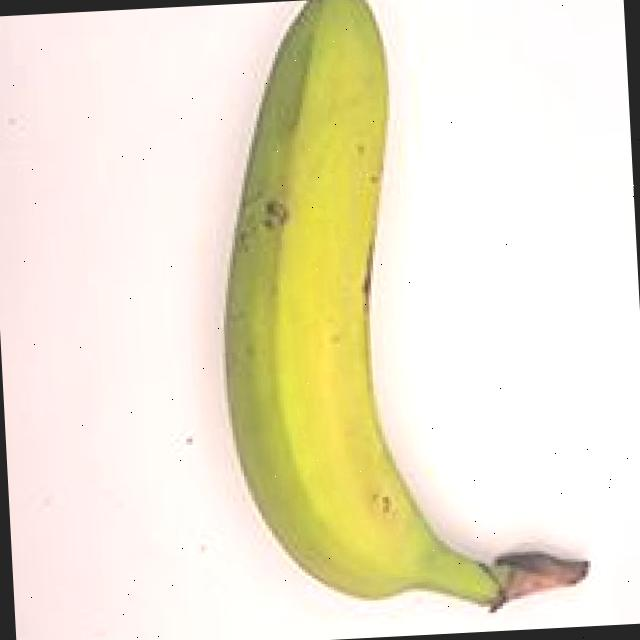Unripe: (182, 0, 612, 640)
